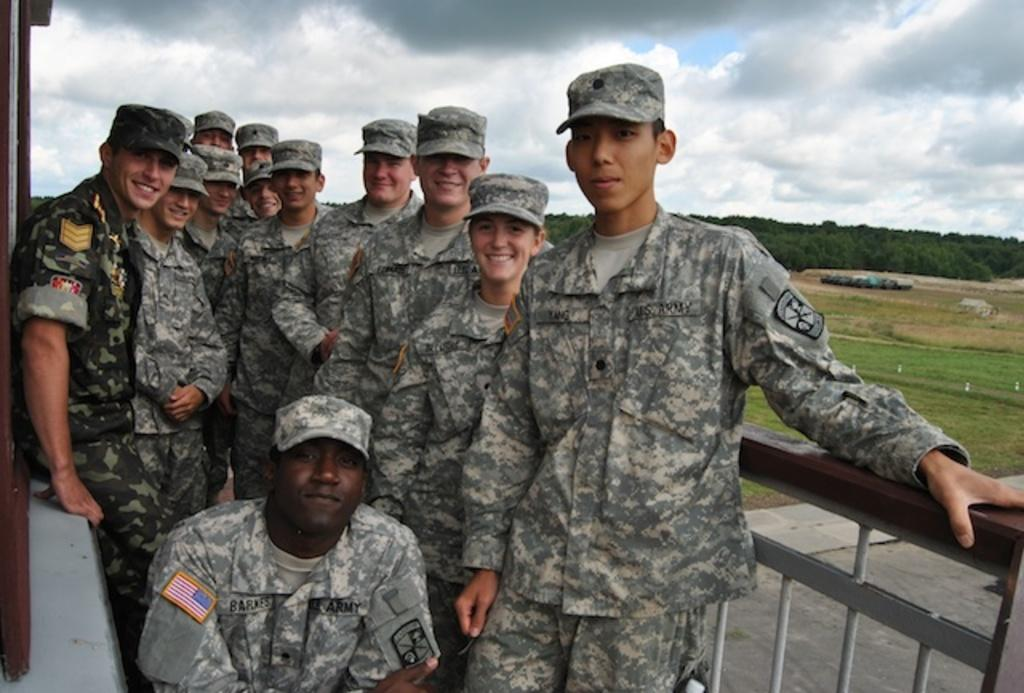Hat: (106, 61, 666, 466)
